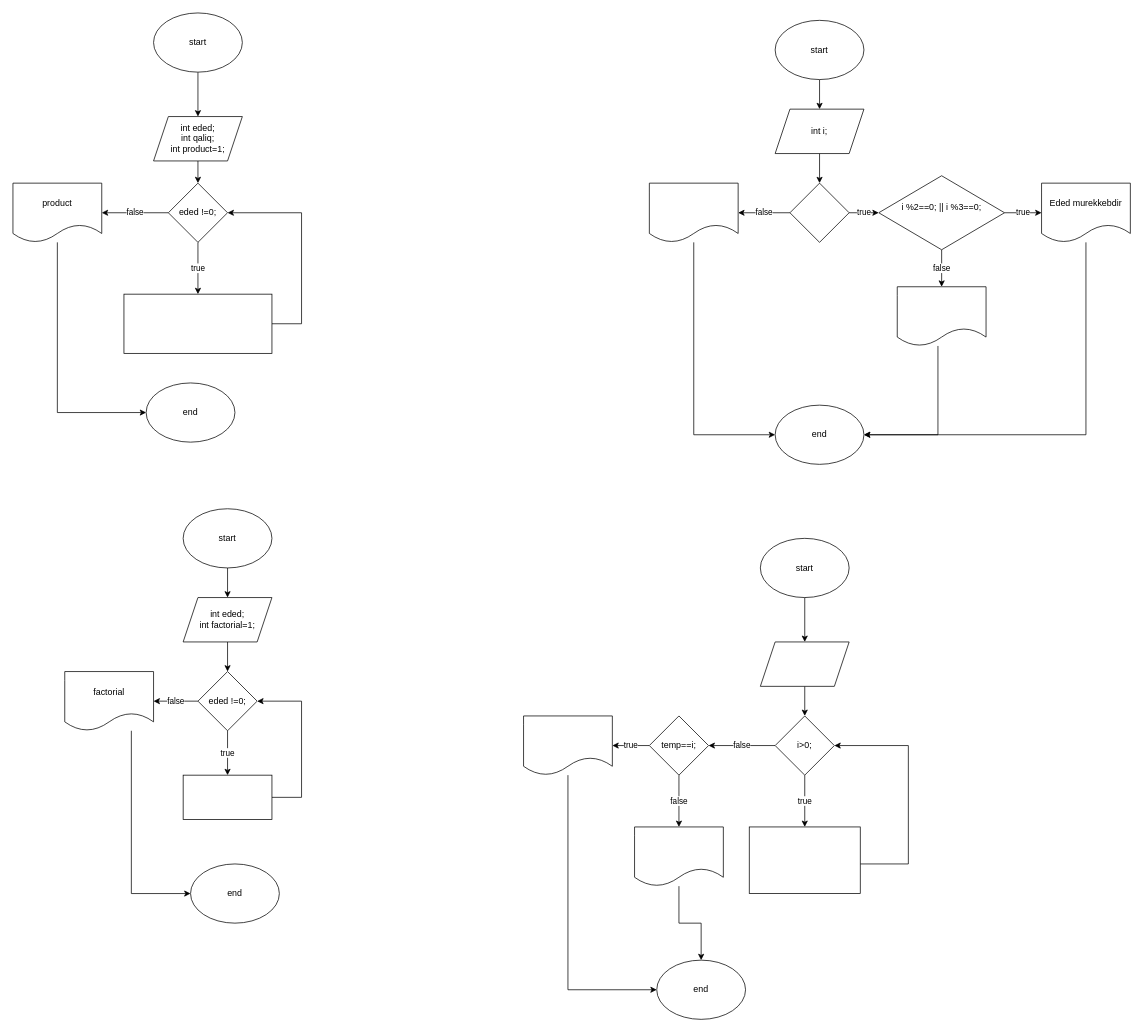
Some shapes in this 1143 by 1032 pixel diagram are drawn without their labels. The centre of each missing label's shape, as x and y in pixels:
Eded Polindrom deyil: the point at 678,856
Eded Polindromdur: the point at 567,745
Eded sadedir: the point at 941,316
factorial *= eded; eded -= 1;: the point at 227,797
i>2;: the point at 819,212
int i; int qaliq; int temp; int sum=0;: the point at 804,663
Ne sadedir nede murekkebdir: the point at 693,212
qaliq = eded % 10; eded -= qaliq; product = product * qaliq; eded = eded / 10;: the point at 197,323
qaliq= i %10; sum= (sum *10) +qaliq; i=i/10;: the point at 804,860
